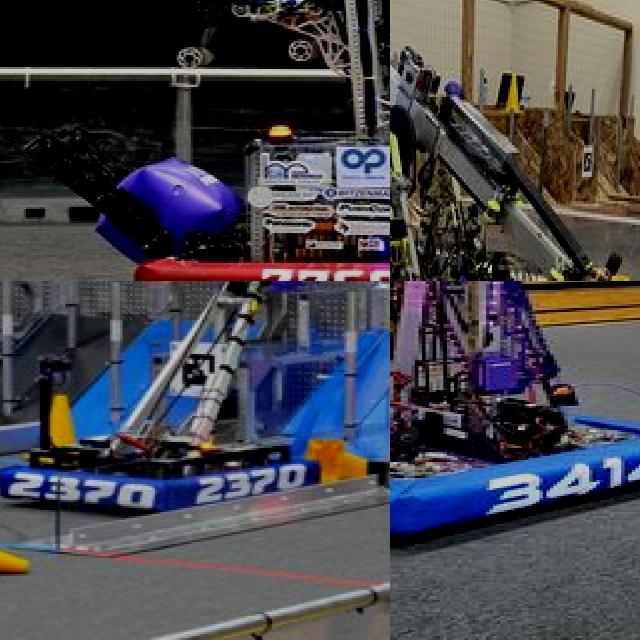FRC-Robots: (0, 281, 382, 529), (390, 281, 640, 572), (132, 0, 390, 281), (390, 33, 640, 281)
